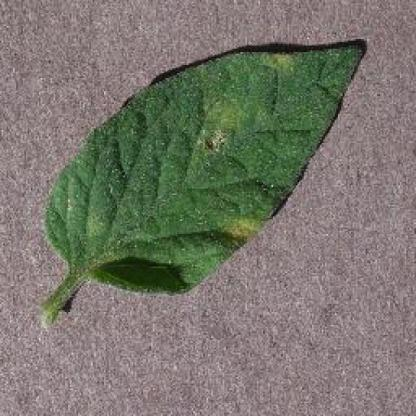Tomato_Leaf_Mold: (52, 47, 366, 292)
